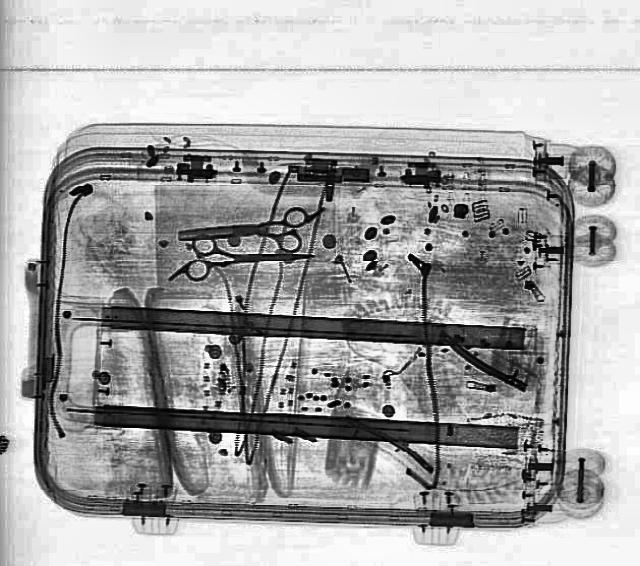Scissors: (176, 206, 306, 256), (184, 232, 314, 280)
